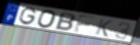3: (115, 22, 131, 40)
B: (54, 12, 76, 32)
F: (72, 14, 98, 34)
G: (18, 7, 38, 26)
K: (95, 18, 114, 38)
O: (37, 10, 58, 29)
